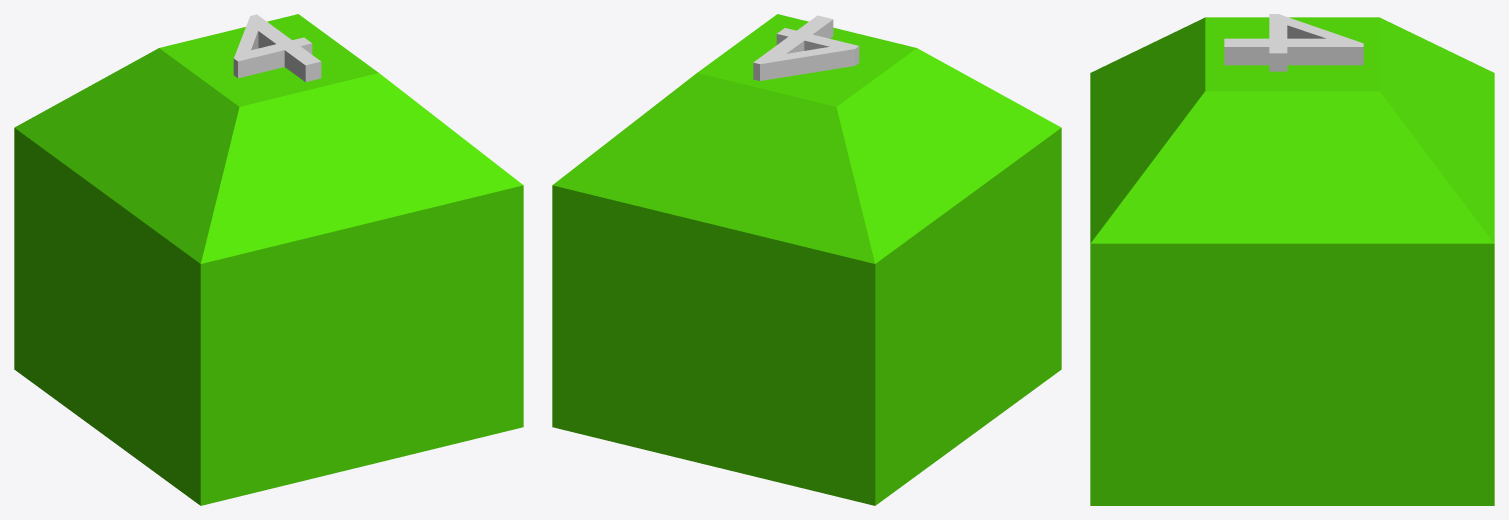
The model's file is house4.dae.
3 views of the same model, side by side, from view 1: azimuth 30°, elevation 25°; view 2: azimuth 150°, elevation 25°; view 3: azimuth 270°, elevation 25° (orthographic). The views are drawn at different scales.
Visible parts, largest first — view 1: House2; view 2: House2; view 3: House2.
Part boxes in pixels (x1,y1,x2,y2): House2: (14, 14, 523, 505); House2: (552, 14, 1061, 505); House2: (1090, 14, 1494, 505).
Size of the model in its own units: 2 by 2 by 2.1.
